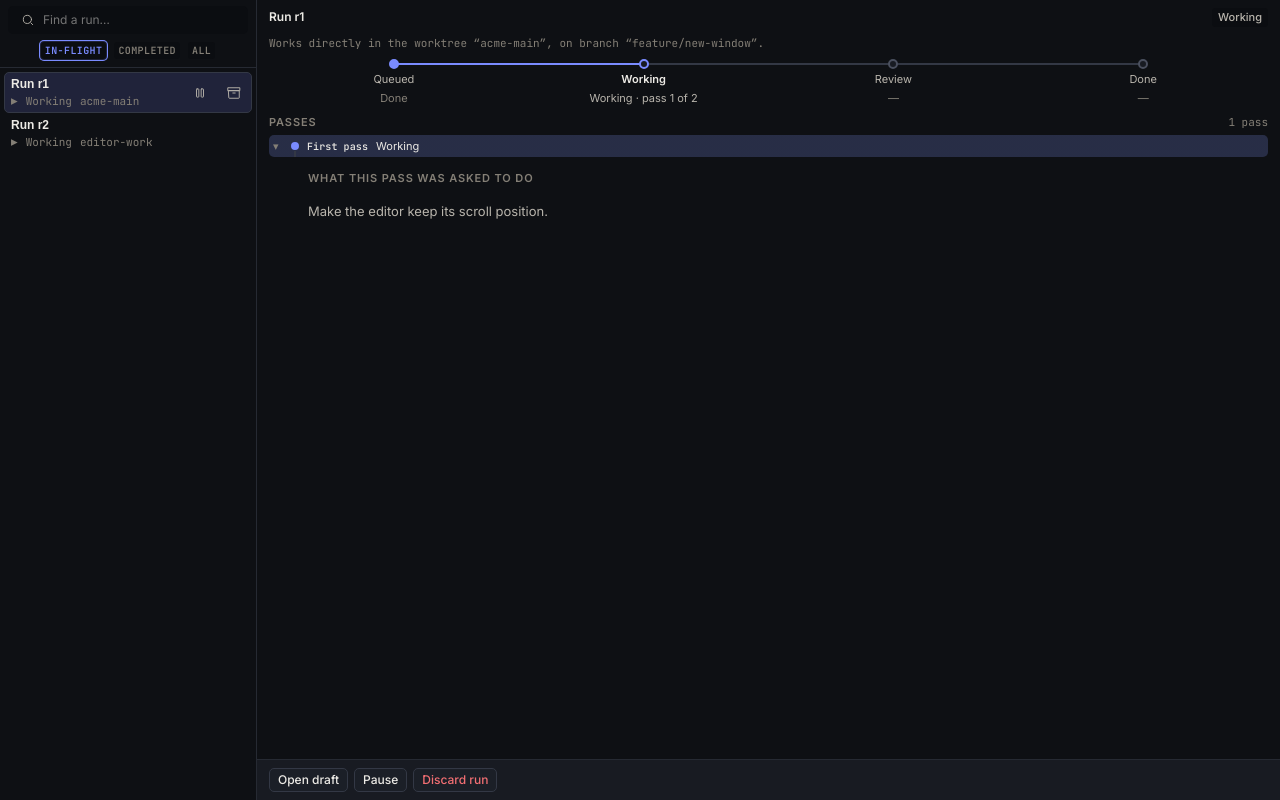
Test: what a direct run says about where it works › GRU-FR-LORX: the rail filter finds a direct run by its worktree and its branch
Type "new-window" into the search field at point(139, 20), box [43,11,235,29]
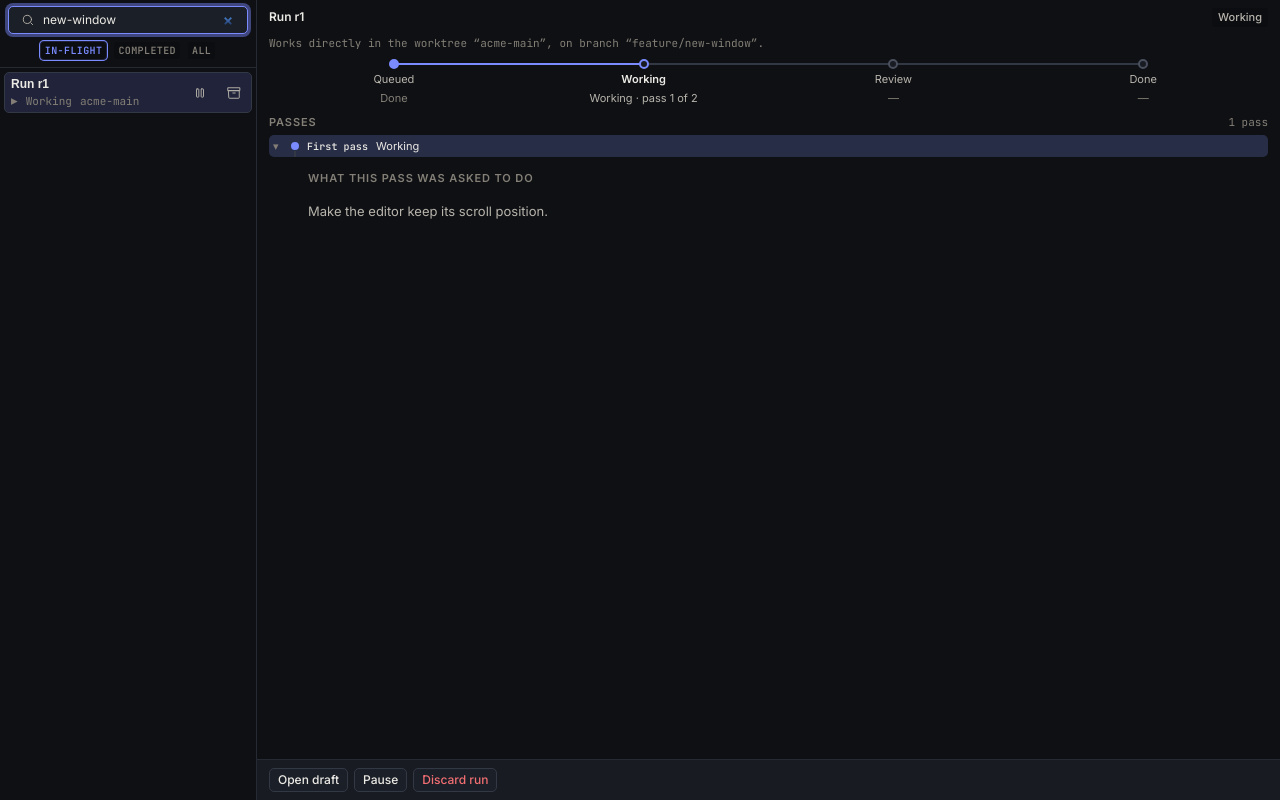
Expected: the number of buttons with test id "graduation-row" is 1, [5,73,183,112]
